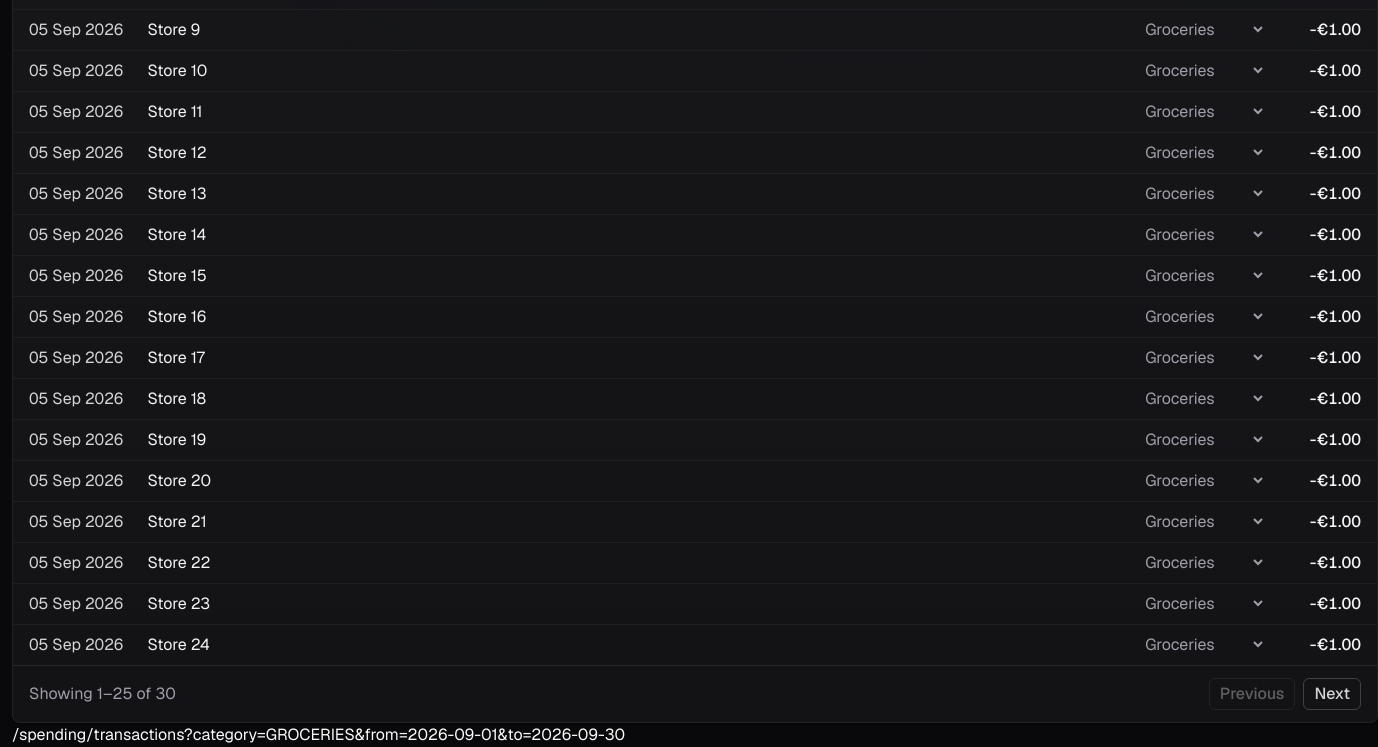
Scenario: SpendingTransactions › resets the search and page when the URL moves to another drill-down
This screenshot has width=1378, height=747.
(page scrolled)
Click the button with aria-label "Next page": (1332, 694) [1303,678,1361,710]
(page scrolled)
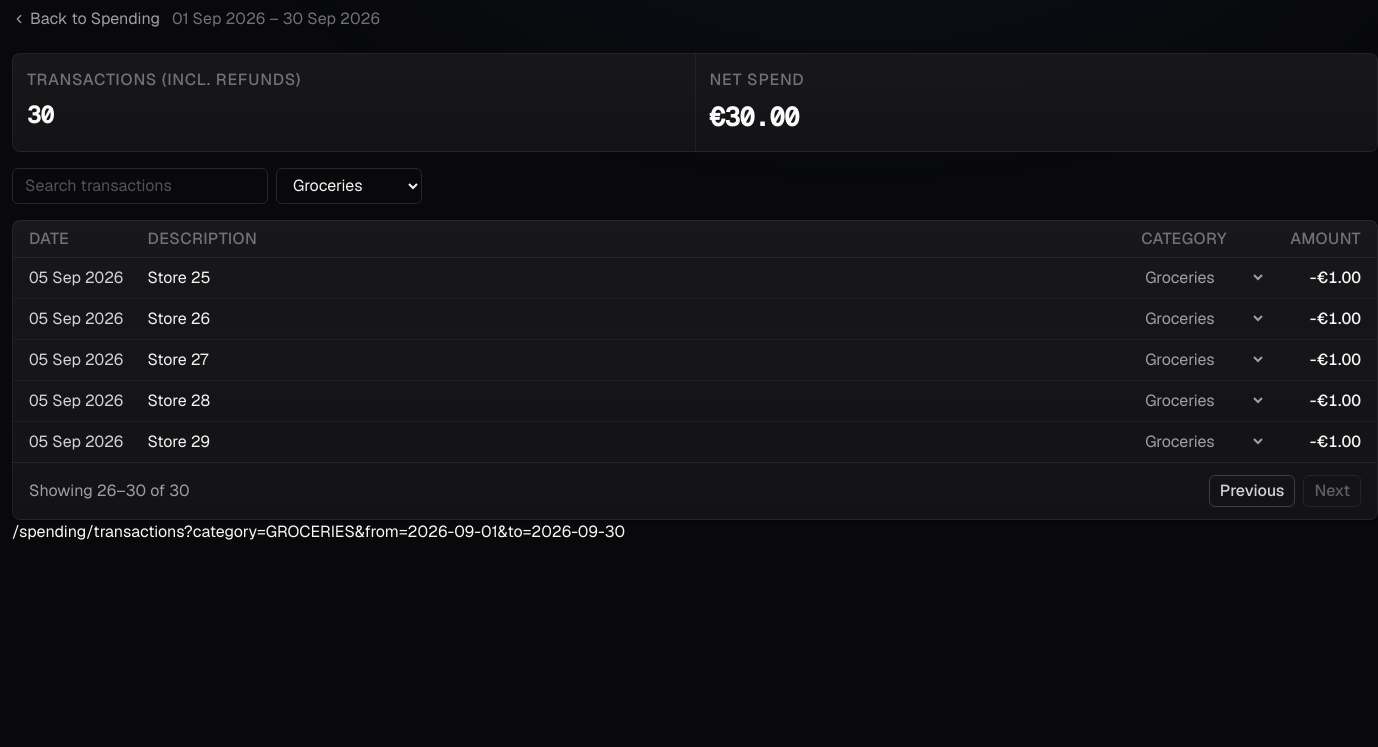
expect the text "Showing 26–30 of 30" is shown: met, box [29,479,190,503]
In the field labelled "Search transactions": (140, 186) [12,168,268,204], type "store 2"
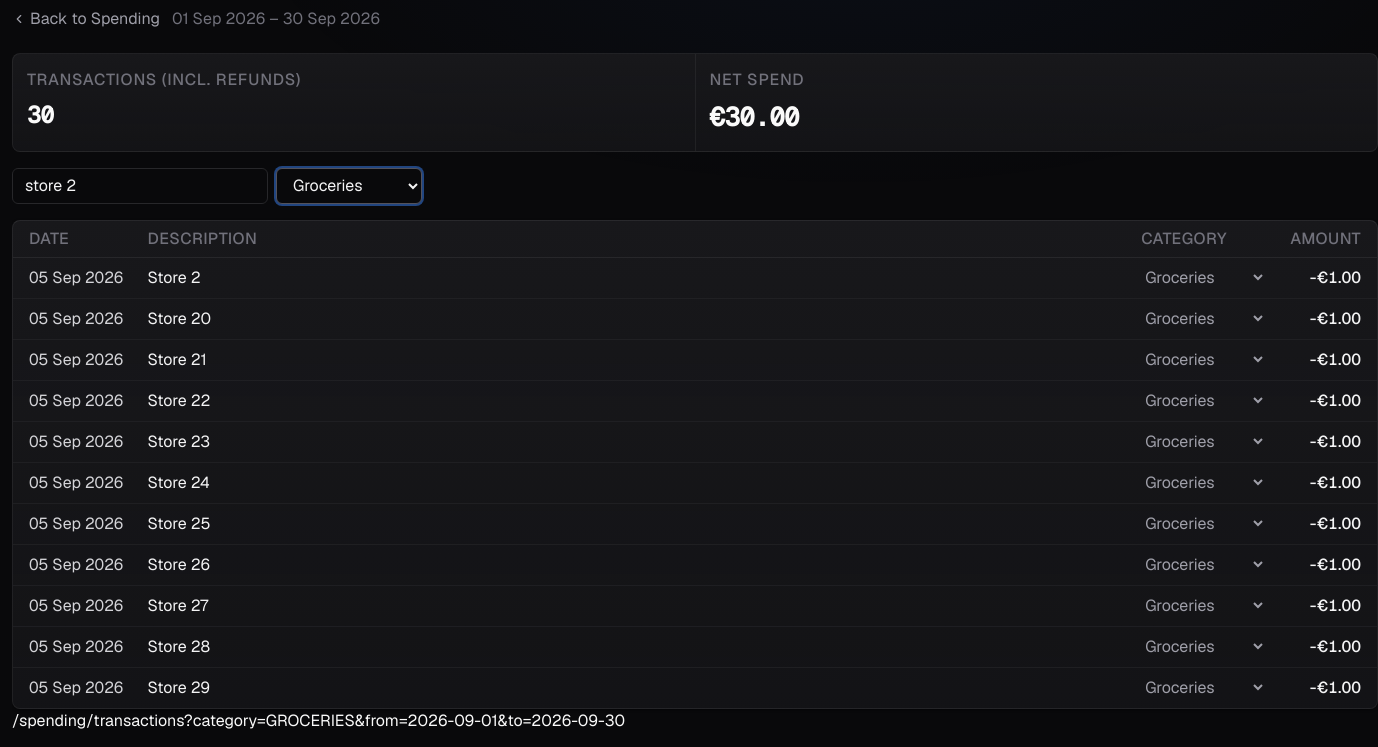
Select "All categories" in the dropdown named "Filter by category": (349, 186) [276,168,422,204]
(page scrolled)
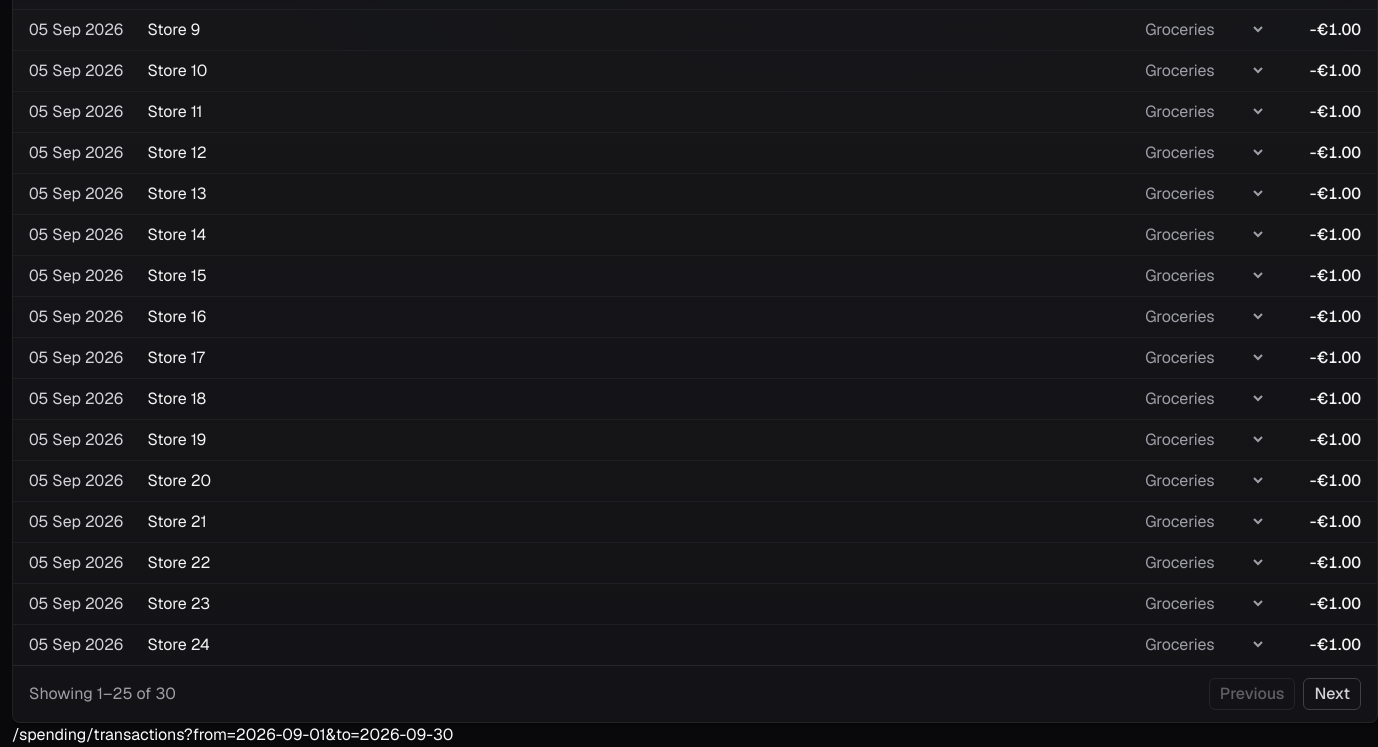
expect the text "Showing 1–25 of 30" is shown: met, box [29,682,176,706]
